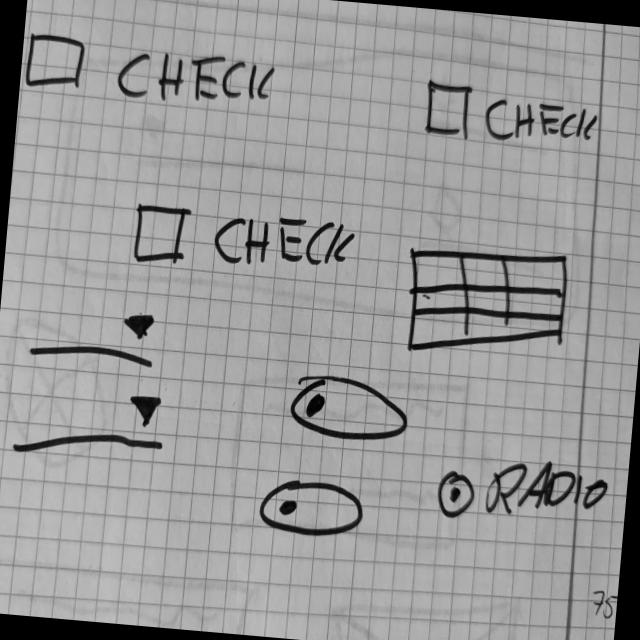checkbox: (24, 27, 281, 118), (132, 199, 360, 283), (423, 79, 606, 158)
radio: (434, 450, 611, 535)
select: (9, 381, 173, 470), (26, 297, 162, 372)
table: (401, 241, 573, 368)
toggle: (288, 369, 415, 449), (257, 473, 368, 544)
